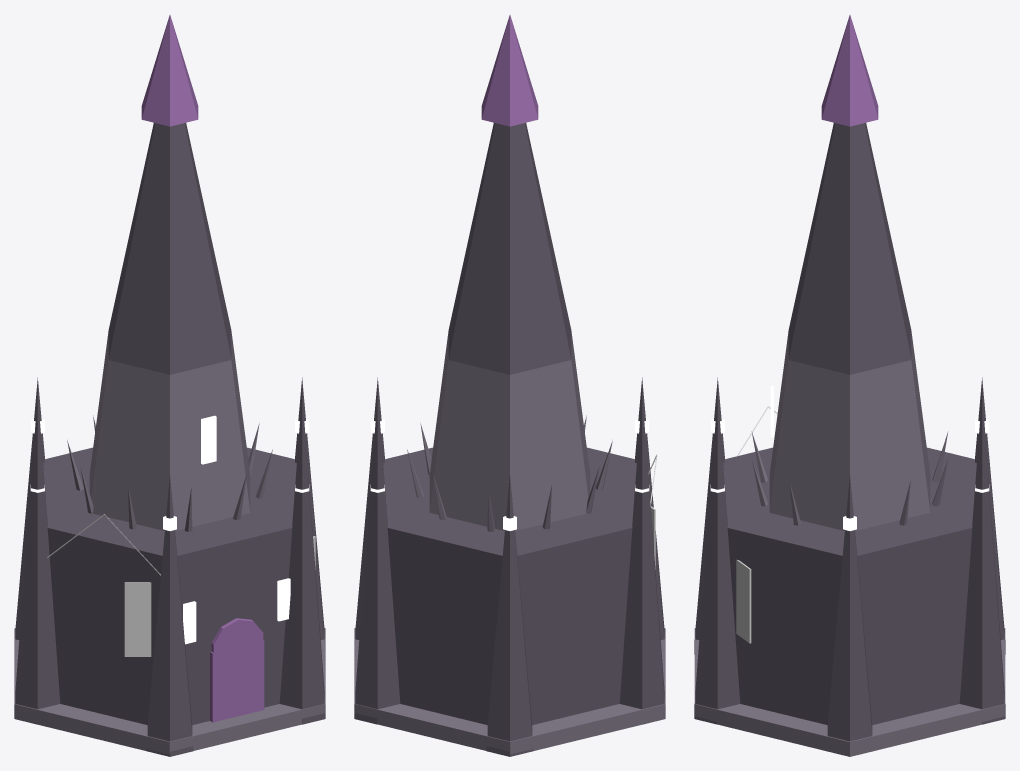
3 views of the same model, side by side, from view 1: azimuth 30°, elevation 25°; view 2: azimuth 150°, elevation 25°; view 3: azimuth 270°, elevation 25° (orthographic).
Visible parts, largest first — view 1: body; view 2: body; view 3: body.
Boxes of the visible parts, x1,y1,x2,y2 form: body: (14,15,325,756); body: (354,15,665,756); body: (694,15,1005,756).
Size of the model in its own units: 13.2 by 27 by 11.43.
